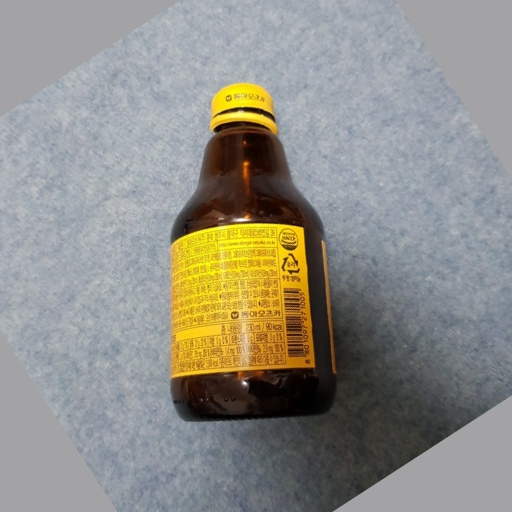Glass_3: (158, 81, 340, 420)
